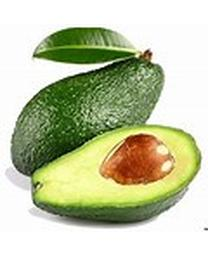avocado: (9, 55, 166, 179), (29, 122, 203, 225)
